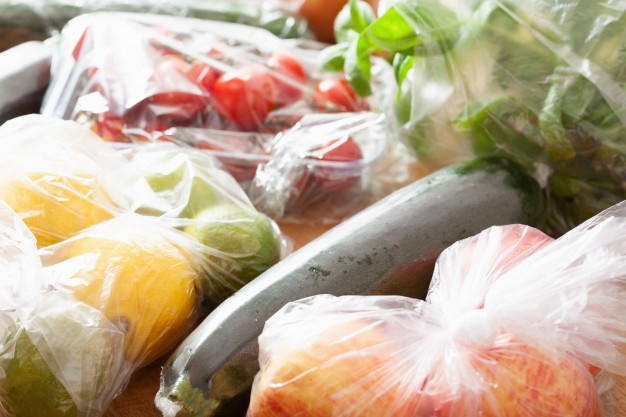plastic_bagwdw: (89, 19, 199, 160)
